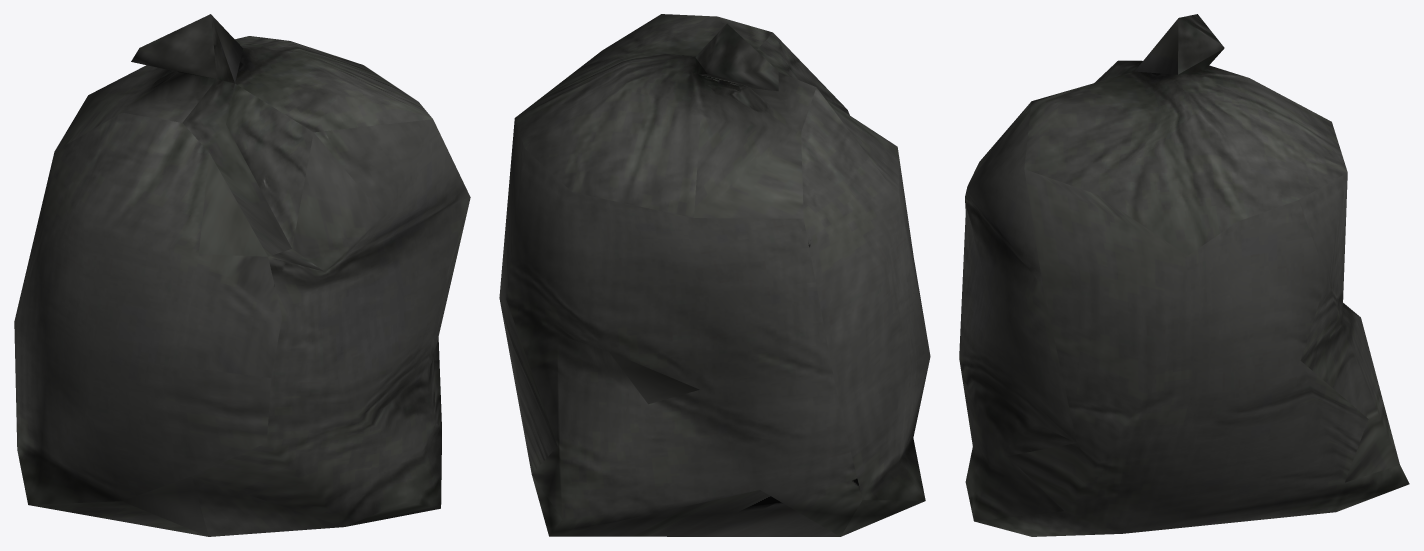
File: SM_Trashbag_00.fbx
The picture shows the model from 3 angles, left to right: view 1: azimuth 30°, elevation 25°; view 2: azimuth 150°, elevation 25°; view 3: azimuth 270°, elevation 25°; orthographic projection.
Parts seen in each view (by area): view 1: SM_Trashbag_00; view 2: SM_Trashbag_00; view 3: SM_Trashbag_00.
Part boxes in pixels (x1,y1,x2,y2): SM_Trashbag_00: (14,14,470,536); SM_Trashbag_00: (499,14,930,536); SM_Trashbag_00: (959,14,1409,536).
Bounding box in the file's own units: 65.13 × 73.05 × 64.71.
